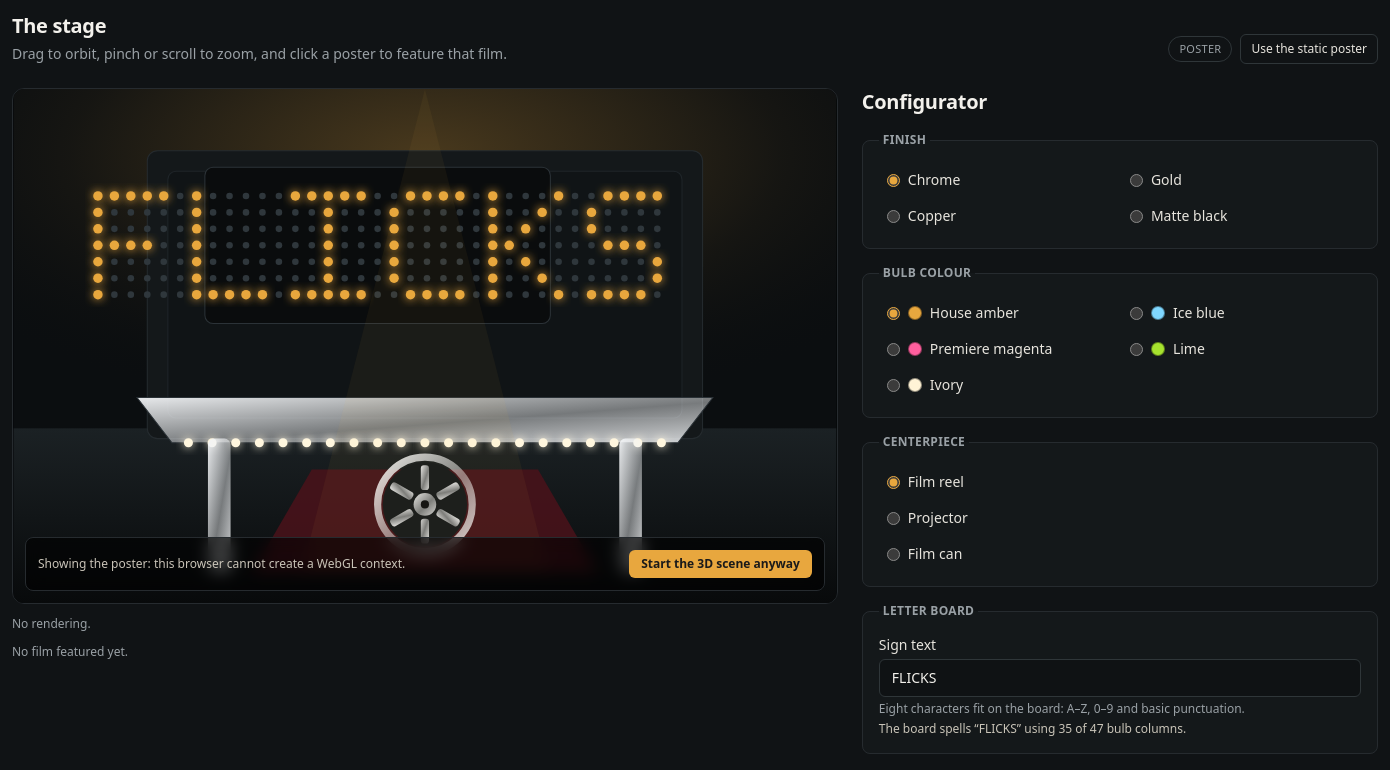
Test: MarqueeExperience › falls back to the poster when the scene itself blows up
What coordinates should you click on to do the following:
click the button "Start the 3D scene anyway"
I would click on:
 (721, 564)
Its box is top-left (629, 550), bottom-right (812, 578).
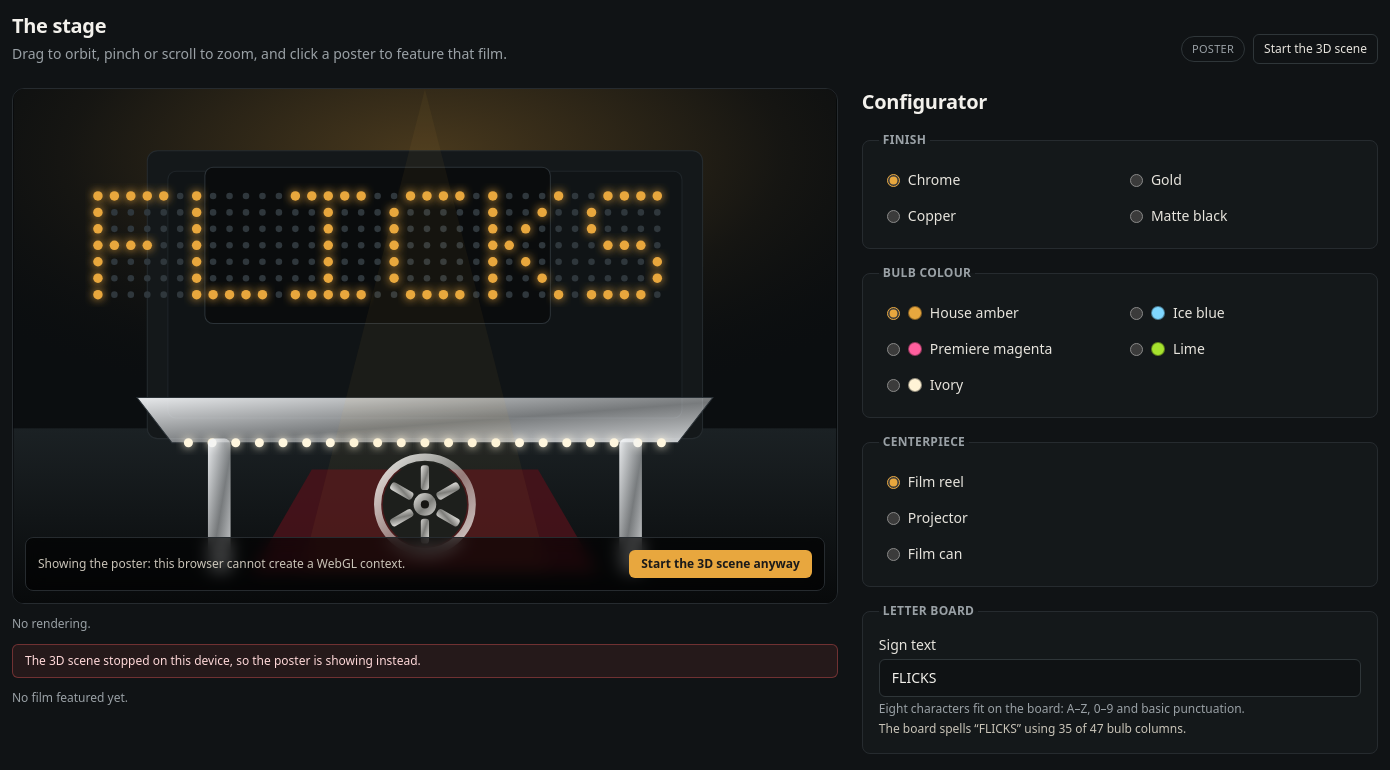
Expected: the picture named "Premiere marquee" is shown, top-left (13, 89), bottom-right (837, 603)
Expected: the message "The 3D scene stopped on this device, so the poster is showing instead." is shown, top-left (12, 644), bottom-right (838, 678)
Expected: the button "Start the 3D scene" is shown, top-left (1253, 34), bottom-right (1378, 64)
